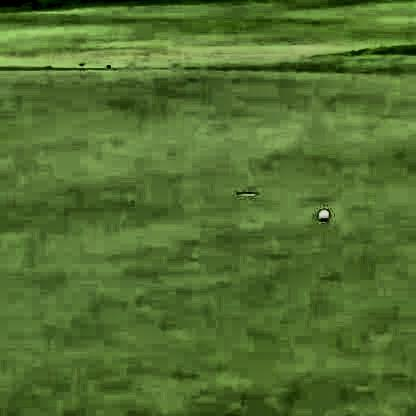golfball: (315, 206, 327, 220)
